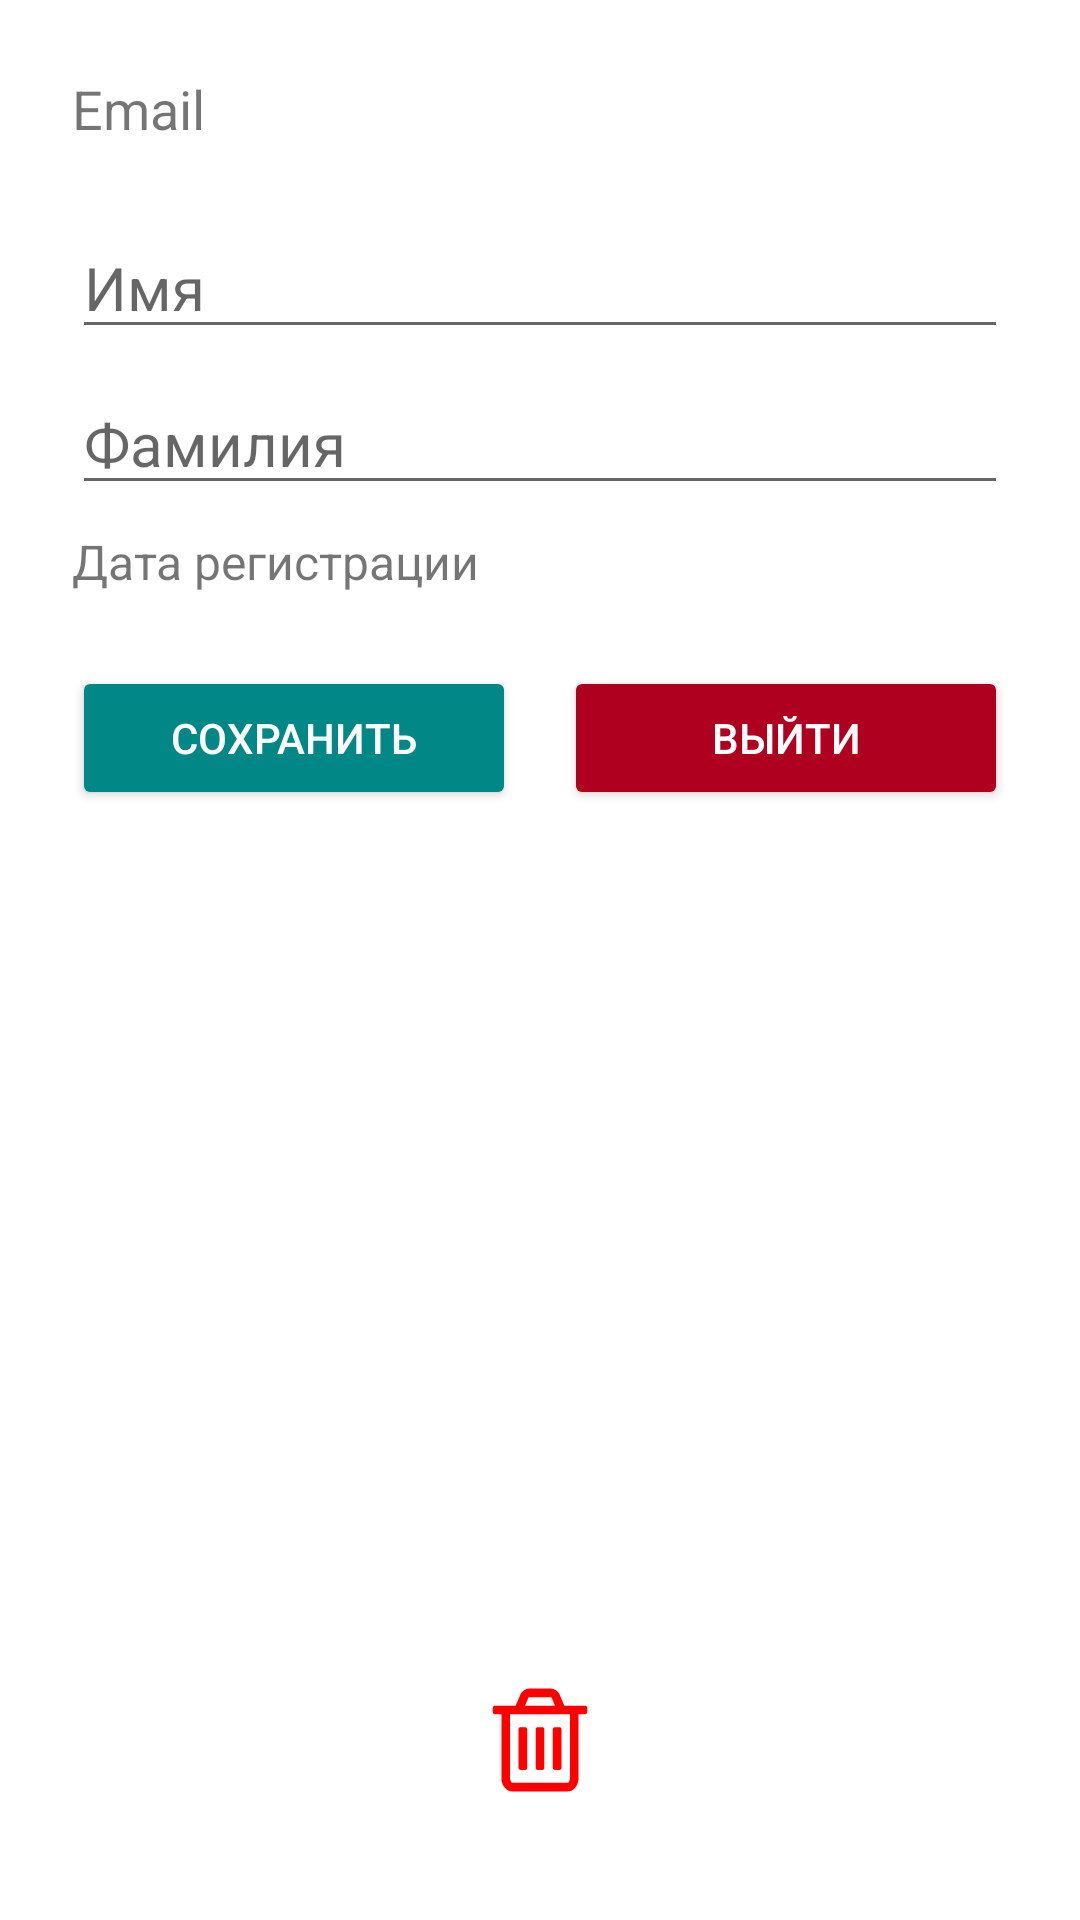

Icons on this 1080px x 1920px Android screen, each with its box as (left=x1, top=y1, right=x2, bottom=y2):
Удалить аккаунт: (left=492, top=1688, right=588, bottom=1792)
